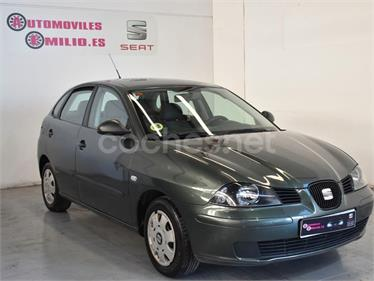car: (28, 66, 371, 279)
